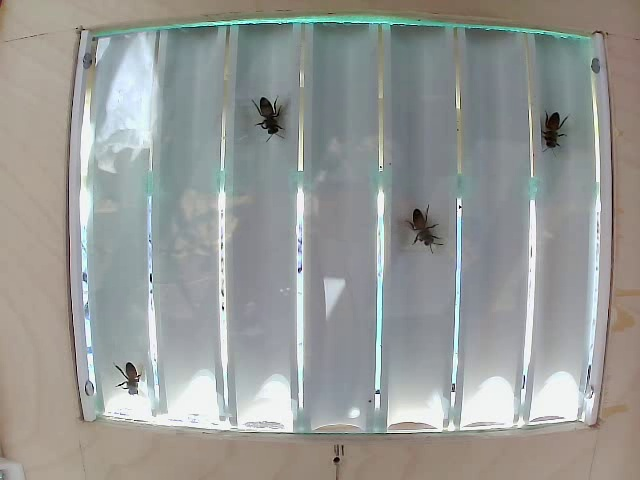bee: (401, 198, 437, 263), (517, 102, 567, 147), (245, 100, 287, 134)
